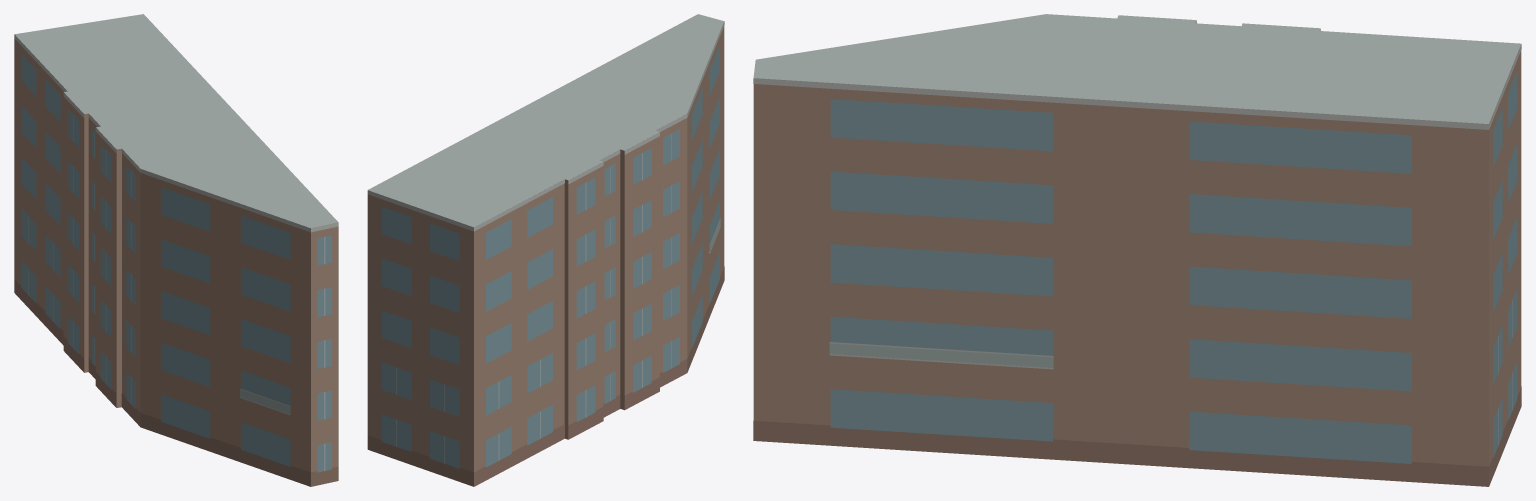
File: survey-upis-32571973.glb
3 views of the same model, side by side, from view 1: azimuth 30°, elevation 25°; view 2: azimuth 150°, elevation 25°; view 3: azimuth 270°, elevation 25° (orthographic). The views are drawn at different scales.
Parts seen in each view (by area): view 1: survey-upis-32571973.tmp; view 2: survey-upis-32571973.tmp; view 3: survey-upis-32571973.tmp.
Part boxes in pixels (x1=…): survey-upis-32571973.tmp: x1=14, y1=14, x2=338, y2=486; survey-upis-32571973.tmp: x1=367, y1=14, x2=724, y2=486; survey-upis-32571973.tmp: x1=753, y1=14, x2=1521, y2=486.
Bounding box in the file's own units: 9.94 × 15.25 × 29.27.
